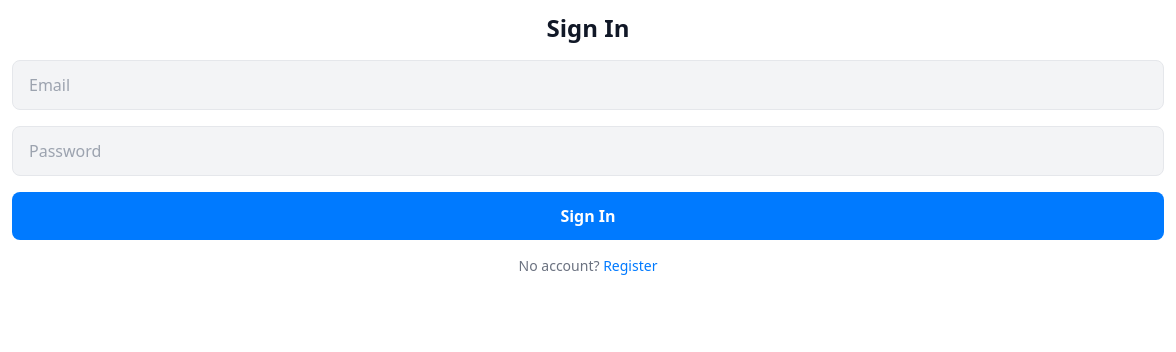
Test: LoginForm › should show error on failed login
Type "bad@test.com" into the field with placeholder "Email" at (588, 85), box [12,60,1164,110]
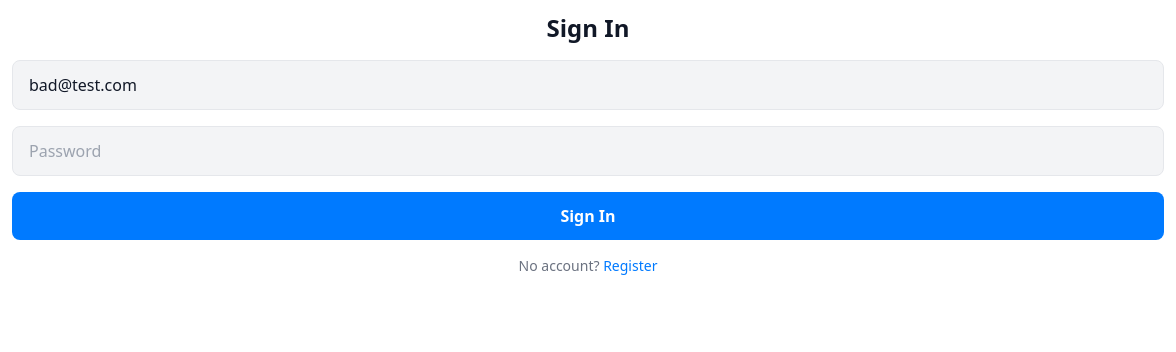
Type "wrong" into the password field with placeholder "Password" at (588, 151), box [12,126,1164,176]
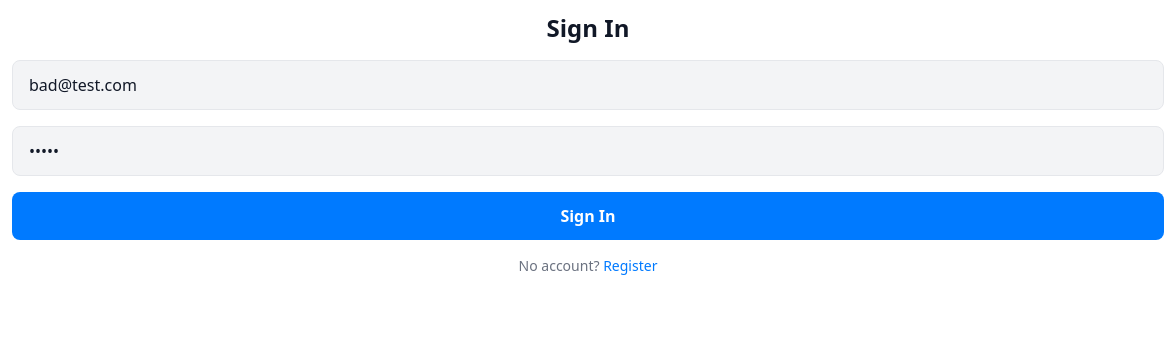
Click the button "Sign In" at (588, 216), box [12,192,1164,240]
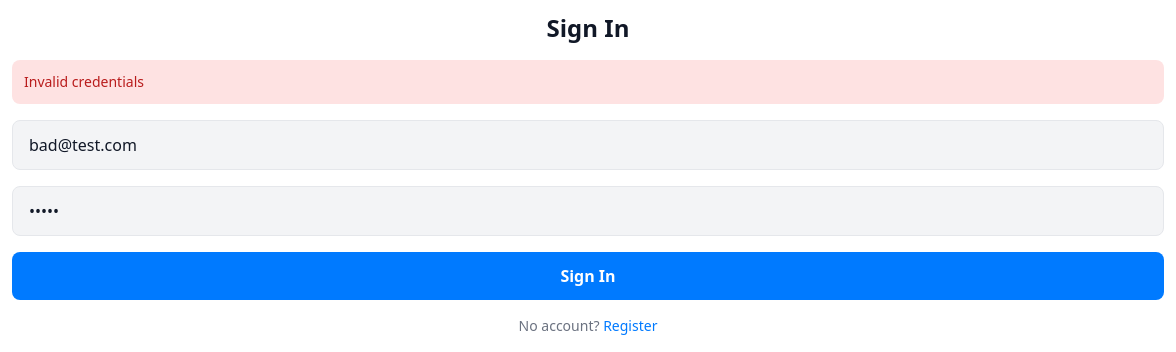
Result: the text "Invalid credentials" is shown at [12,60,1164,104]
